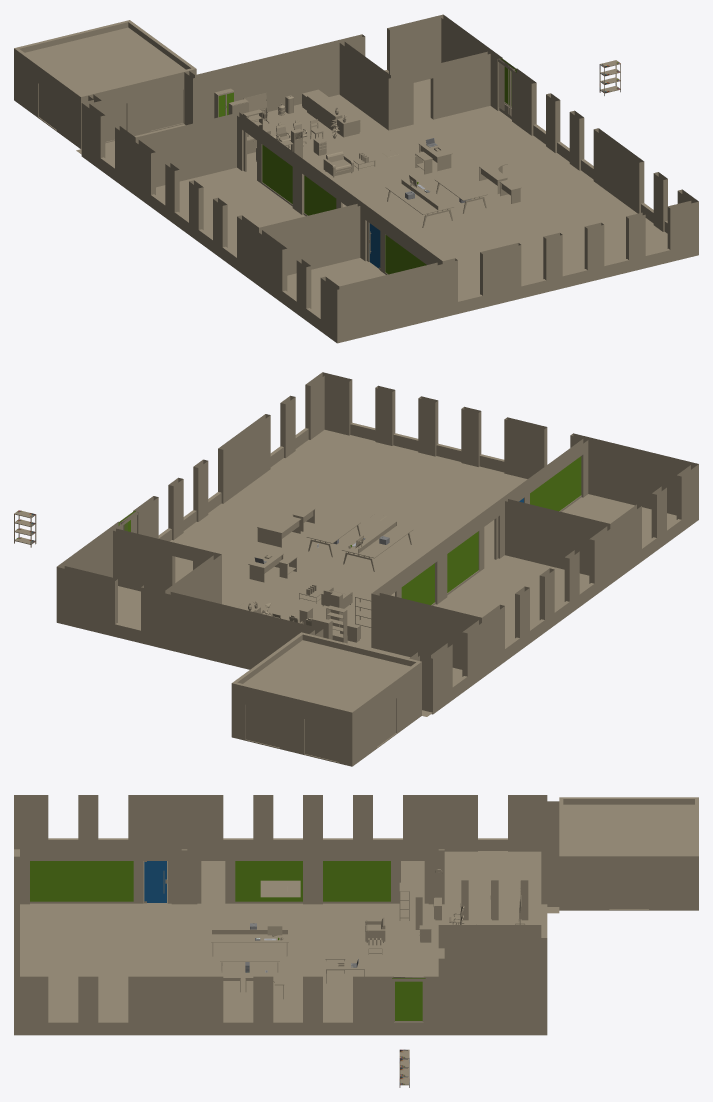
File: OfficeTest.FBX
The picture shows the model from 3 angles, top to bottom: view 1: azimuth 30°, elevation 25°; view 2: azimuth 150°, elevation 25°; view 3: azimuth 270°, elevation 25°; orthographic projection. The views are drawn at different scales.
Visible parts, largest first — view 1: OfficeSimpleWall, OfficeSimpleFloor, TagerPoint00, TagerPoint01, SimpleOfficeGlassWall00, WelcomeDesk, Table03, SimpleOfficeGlassWall01, Table02, OfficeSimpleCeiling00, Chair00, TagerPointDoor11 (+3 smaller); view 2: OfficeSimpleWall, OfficeSimpleFloor, TagerPoint00, TagerPoint01, SimpleOfficeGlassWall00, SimpleOfficeGlassWall01, Table03, Table02, Table00, OfficeSimpleCeiling00, Table04, TagerPointDoor31 (+2 smaller); view 3: OfficeSimpleWall, OfficeSimpleFloor, TagerPoint00, TagerPoint01, SimpleOfficeGlassWall00, SimpleOfficeGlassWall01, OfficeWindowGlass, Table03, Door00, Table02, TagerPointDoor01, OfficeSimpleCeiling00 (+1 smaller).
Boxes of the visible parts, x1=… form: OfficeSimpleWall: x1=81, y1=14, x2=698, y2=343; OfficeSimpleFloor: x1=76, y1=79, x2=667, y2=315; TagerPoint00: x1=14, y1=20, x2=196, y2=148; TagerPoint01: x1=25, y1=27, x2=185, y2=94; SimpleOfficeGlassWall00: x1=243, y1=131, x2=342, y2=216; WelcomeDesk: x1=302, y1=89, x2=360, y2=137; Table03: x1=385, y1=179, x2=453, y2=227; SimpleOfficeGlassWall01: x1=367, y1=221, x2=426, y2=274; Table02: x1=434, y1=173, x2=487, y2=213; OfficeSimpleCeiling00: x1=365, y1=143, x2=415, y2=164; Chair00: x1=323, y1=151, x2=353, y2=177; TagerPointDoor11: x1=150, y1=94, x2=166, y2=130; OfficeSimpleWall: x1=56, y1=372, x2=698, y2=714; OfficeSimpleFloor: x1=118, y1=430, x2=676, y2=716; TagerPoint00: x1=231, y1=632, x2=421, y2=766; TagerPoint01: x1=243, y1=640, x2=410, y2=710; SimpleOfficeGlassWall00: x1=395, y1=517, x2=498, y2=605; SimpleOfficeGlassWall01: x1=524, y1=456, x2=581, y2=511; Table03: x1=342, y1=521, x2=413, y2=571; Table02: x1=306, y1=515, x2=360, y2=557; Table00: x1=257, y1=516, x2=301, y2=547; OfficeSimpleCeiling00: x1=351, y1=506, x2=404, y2=528; Table04: x1=248, y1=550, x2=283, y2=582; TagerPointDoor31: x1=304, y1=719, x2=321, y2=757; OfficeSimpleWall: x1=14, y1=795, x2=559, y2=1035; OfficeSimpleFloor: x1=14, y1=849, x2=559, y2=1020; TagerPoint00: x1=559, y1=797, x2=698, y2=910; TagerPoint01: x1=563, y1=804, x2=694, y2=854; SimpleOfficeGlassWall00: x1=197, y1=861, x2=428, y2=903; SimpleOfficeGlassWall01: x1=30, y1=861, x2=171, y2=903; OfficeWindowGlass: x1=392, y1=978, x2=425, y2=1022; Table03: x1=211, y1=926, x2=288, y2=956; Door00: x1=144, y1=861, x2=167, y2=903; Table02: x1=220, y1=949, x2=279, y2=972; TagerPointDoor01: x1=609, y1=874, x2=629, y2=909; OfficeSimpleCeiling00: x1=260, y1=880, x2=300, y2=897.
Size of what is drawn, in the model's own units: 2832 by 311 by 3435.
